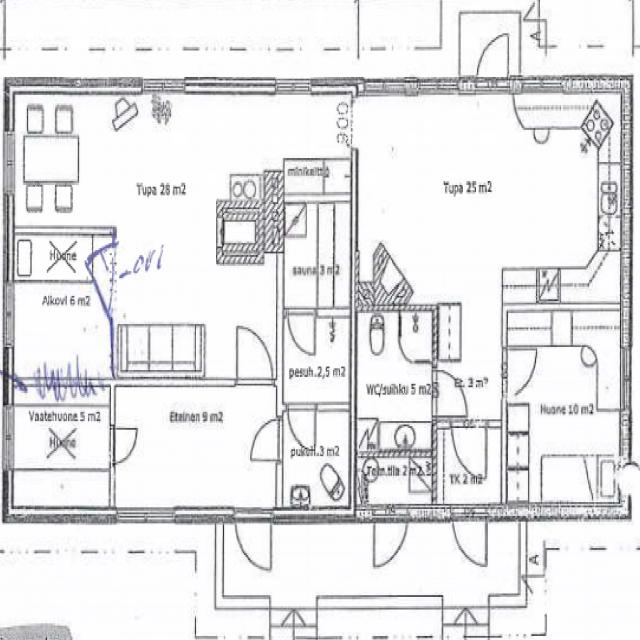door: (235, 503, 273, 577), (452, 502, 488, 572), (73, 260, 117, 317), (475, 25, 510, 94), (374, 502, 409, 570), (235, 322, 272, 386), (452, 420, 487, 482), (502, 350, 540, 398), (432, 372, 468, 416), (287, 307, 316, 359), (287, 403, 316, 454), (250, 422, 283, 462), (111, 430, 140, 465)
